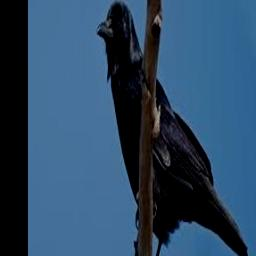Crow: (97, 0, 249, 256)
